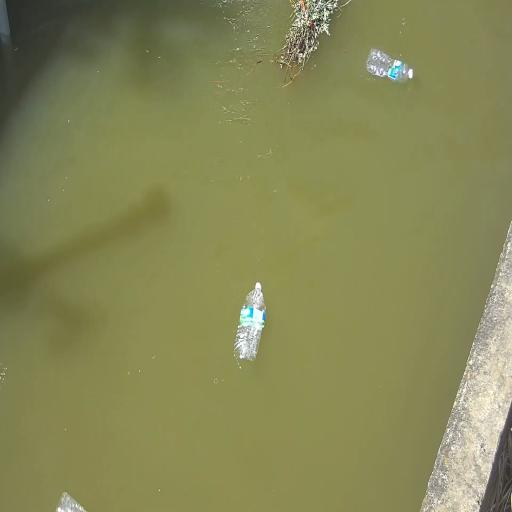plastic: (234, 282, 266, 361), (365, 47, 414, 84), (53, 490, 88, 512)
twig: (268, 0, 352, 88)
